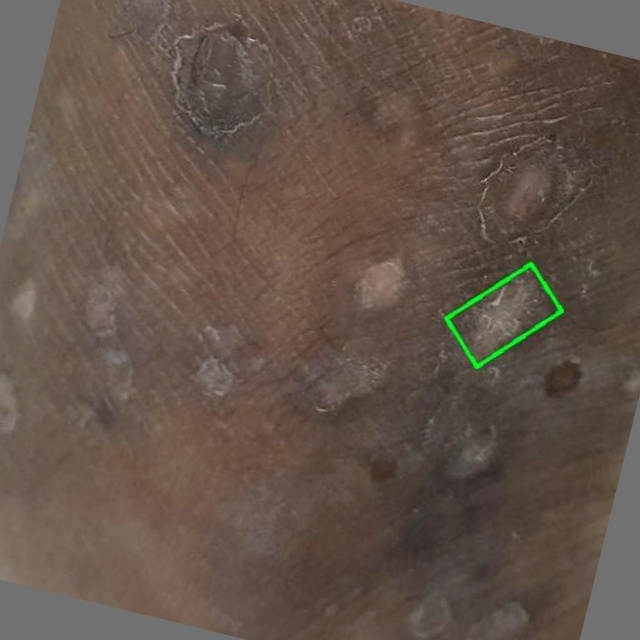Contact Dermatitis: (446, 264, 562, 367)
